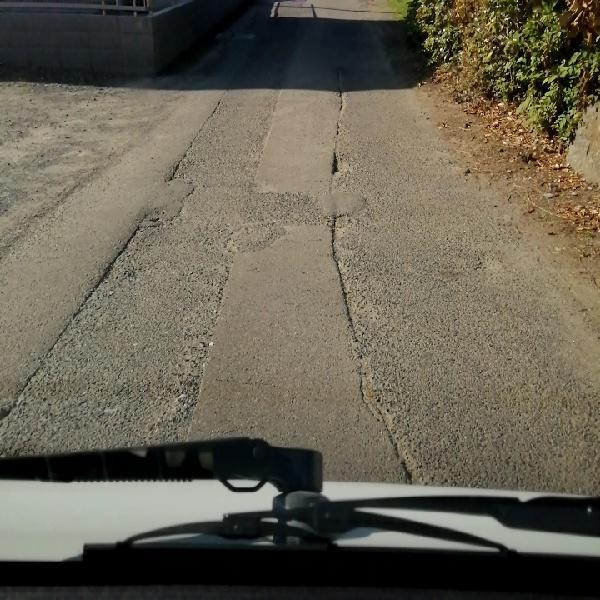D40: (329, 142, 350, 182)
